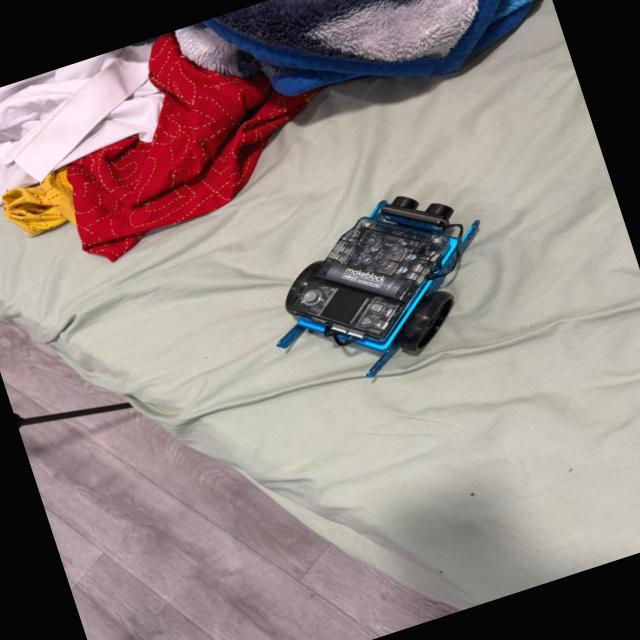mbot-detection: (228, 164, 527, 411)
